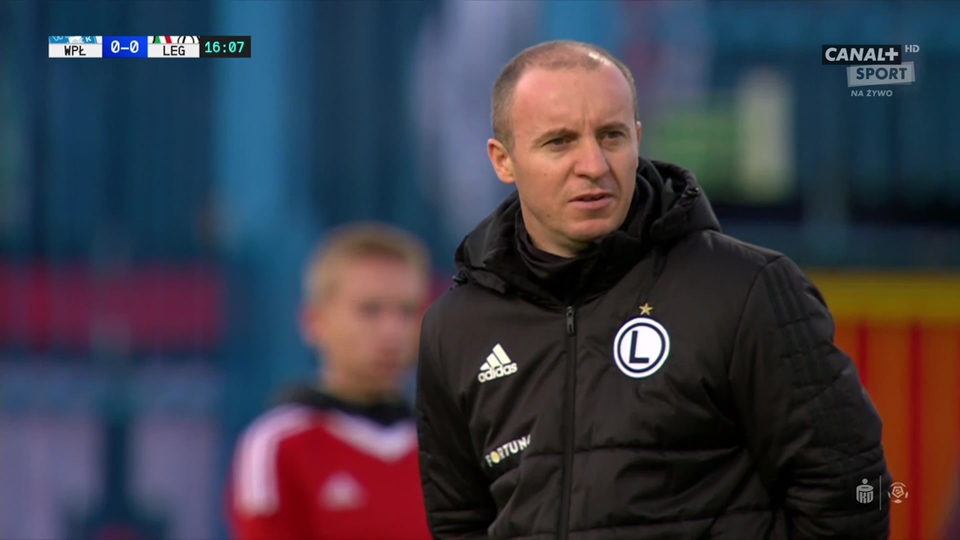Adidas: (474, 342, 520, 382)
